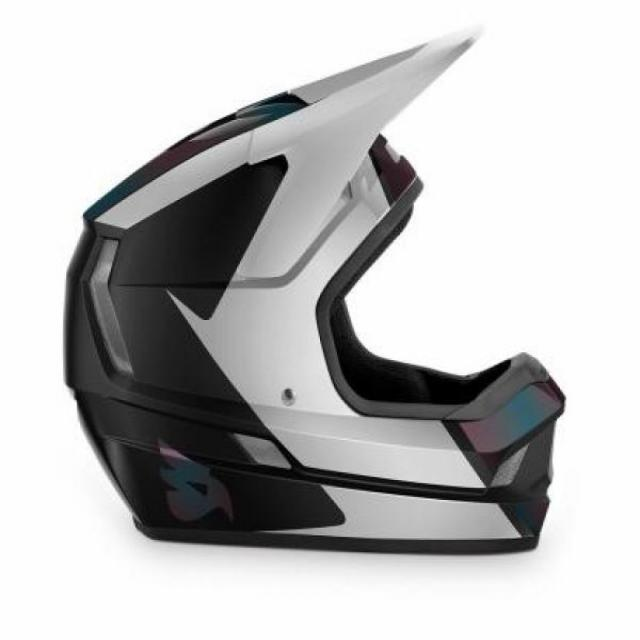Helmet: (66, 49, 545, 561)
